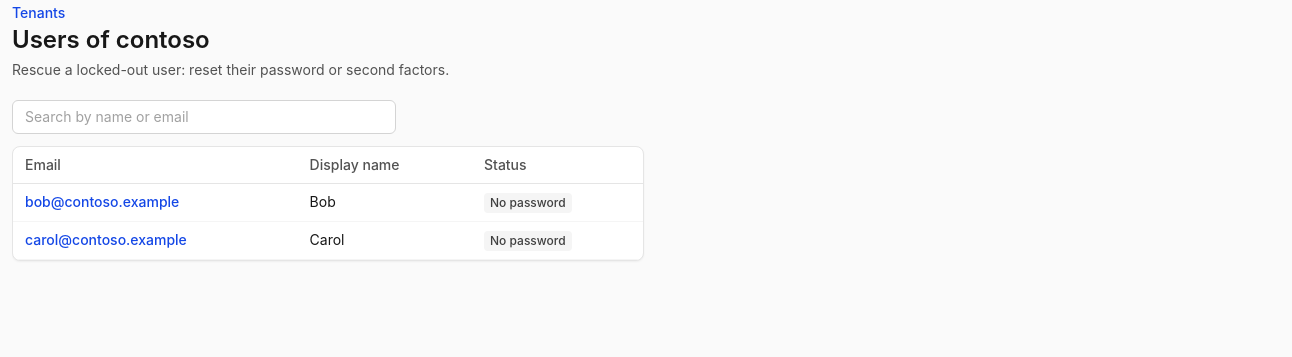
Test: TenantUsersPage › switches the panel when another row is clicked
Click the button "bob@contoso.example" at coordinates (102, 202), box [25,192,179,212]
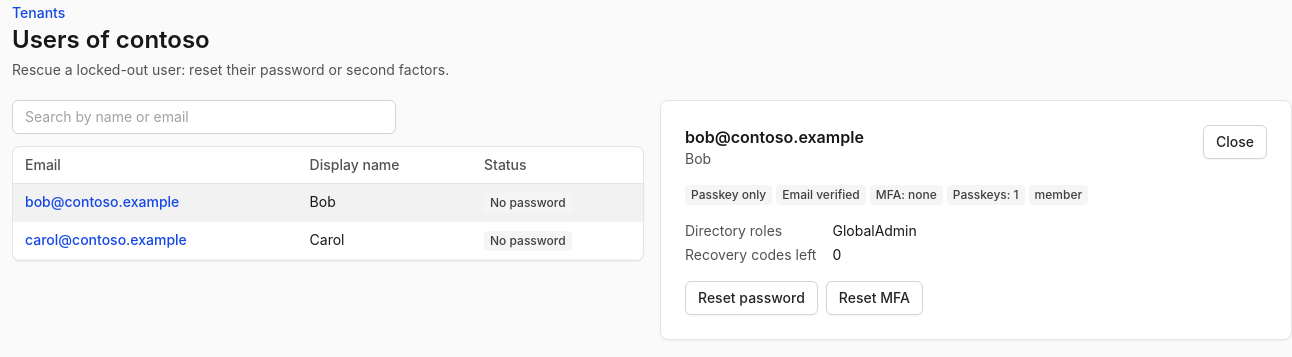
Check: the heading "bob@contoso.example" is shown, box [685,125,864,149]
Click the button "carol@contoso.example" at coordinates (106, 240), box [25,230,187,250]
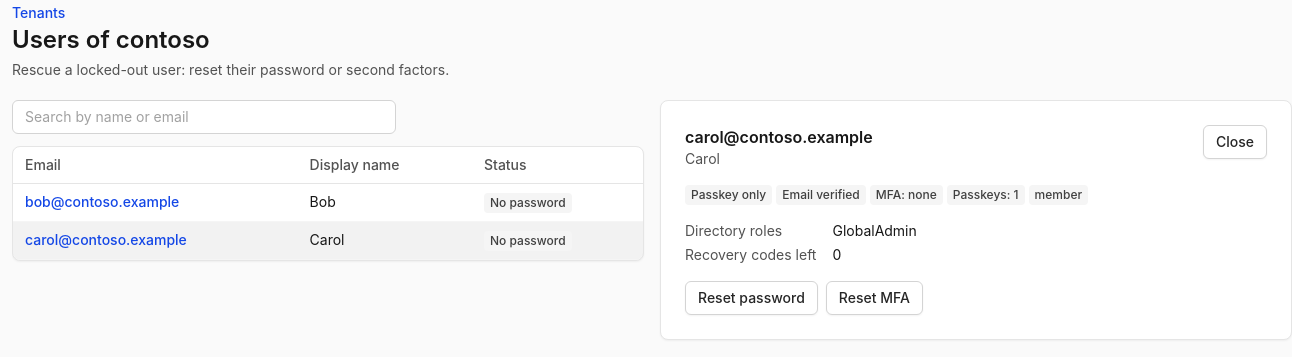
Check: the row "carol@contoso.example Carol No password" is shown, box [13,222,643,260]
Check: the heading "carol@contoso.example" is shown, box [685,125,873,149]
Check: the element named "Selected user" shows "carol", box [685,150,720,167]
